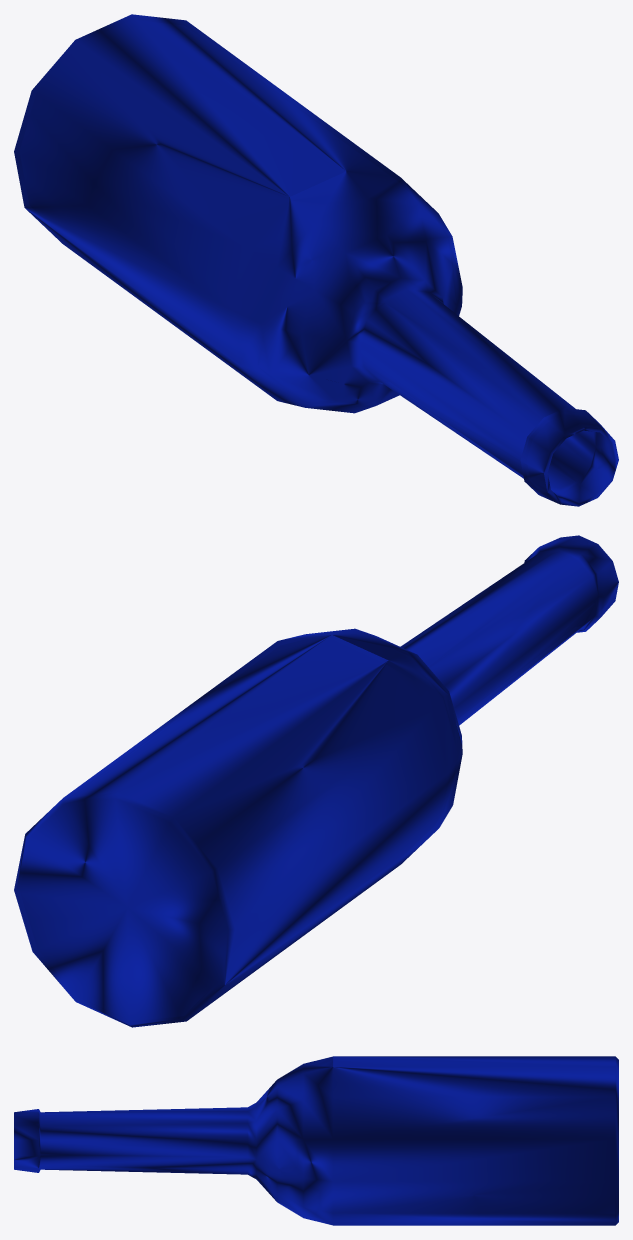
The model's file is model_align.obj.
The picture shows the model from 3 angles, top to bottom: view 1: azimuth 30°, elevation 25°; view 2: azimuth 150°, elevation 25°; view 3: azimuth 270°, elevation 25°; orthographic projection. The views are drawn at different scales.
Bounding box in the file's own units: 0.0731 × 0.0733 × 0.2628.
